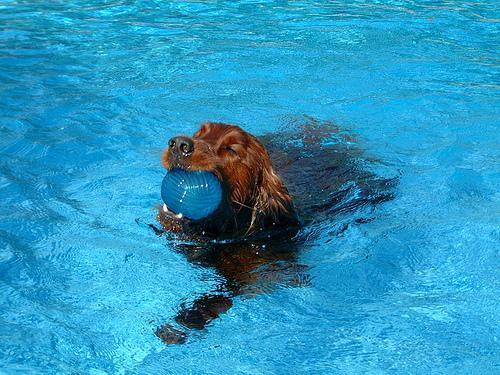Irish_setter: (158, 115, 297, 304)
